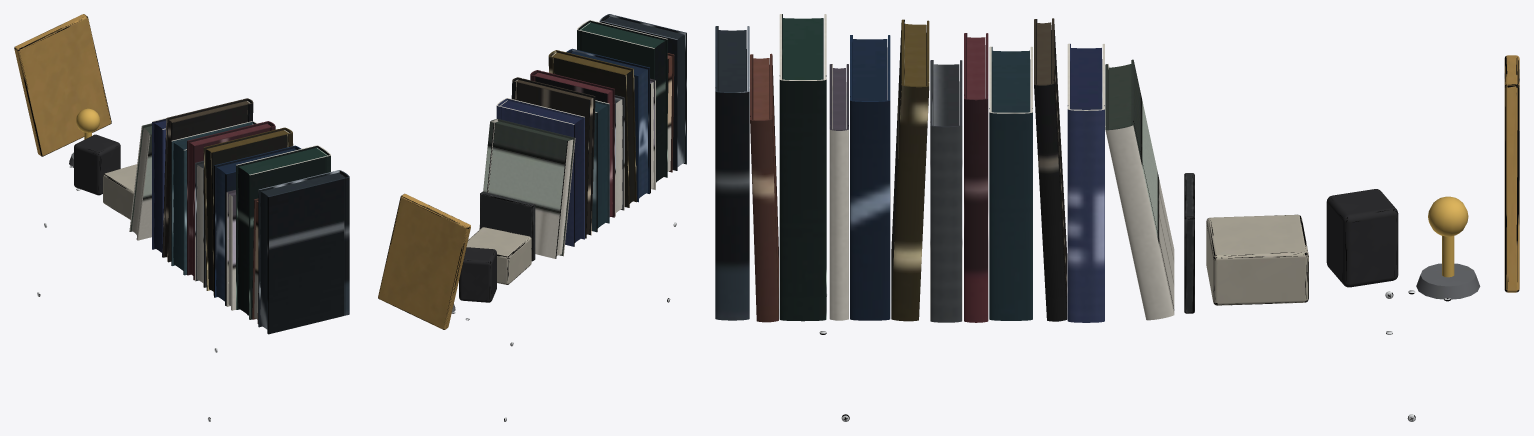
The model's file is bookrack.glb.
3 views of the same model, side by side, from view 1: azimuth 30°, elevation 25°; view 2: azimuth 150°, elevation 25°; view 3: azimuth 270°, elevation 25° (orthographic). The views are drawn at different scales.
Parts seen in each view (by area): view 1: Mesh_165.001__mesh, Mesh_178.001__mesh, Mesh_167.001__mesh, Mesh_174.001__mesh, Mesh_170.001__mesh, Mesh_169.001__mesh, Mesh_173.001__mesh, Mesh_161.001__mesh, Mesh_172.001__mesh, Mesh_176.001__mesh, Mesh_175.001__mesh, Mesh_160.001__mesh (+4 smaller); view 2: Mesh_178.001__mesh, Mesh_176.001__mesh, Mesh_167.001__mesh, Mesh_175.001__mesh, Mesh_170.001__mesh, Mesh_174.001__mesh, Mesh_165.001__mesh, Mesh_169.001__mesh, Mesh_160.001__mesh, Mesh_173.001__mesh, Mesh_177.001__mesh, Mesh_161.001__mesh (+4 smaller); view 3: Mesh_167.001__mesh, Mesh_173.001__mesh, Mesh_169.001__mesh, Mesh_175.001__mesh, Mesh_176.001__mesh, Mesh_165.001__mesh, Mesh_170.001__mesh, Mesh_160.001__mesh, Mesh_171.001__mesh, Mesh_172.001__mesh, Mesh_174.001__mesh, Mesh_166.001__mesh (+6 smaller).
Part boxes in pixels (<box>): Mesh_165.001__mesh: <box>258,170,349,334</box>; Mesh_178.001__mesh: <box>14,14,111,156</box>; Mesh_167.001__mesh: <box>236,145,330,319</box>; Mesh_174.001__mesh: <box>162,98,253,262</box>; Mesh_170.001__mesh: <box>203,127,293,295</box>; Mesh_169.001__mesh: <box>214,145,301,305</box>; Mesh_173.001__mesh: <box>171,121,257,275</box>; Mesh_161.001__mesh: <box>74,134,120,195</box>; Mesh_172.001__mesh: <box>187,121,275,280</box>; Mesh_176.001__mesh: <box>129,123,151,240</box>; Mesh_175.001__mesh: <box>152,118,166,256</box>; Mesh_160.001__mesh: <box>103,164,137,219</box>; Mesh_178.001__mesh: <box>378,193,470,329</box>; Mesh_176.001__mesh: <box>479,119,575,258</box>; Mesh_167.001__mesh: <box>577,20,667,182</box>; Mesh_175.001__mesh: <box>496,98,584,246</box>; Mesh_170.001__mesh: <box>548,50,636,207</box>; Mesh_174.001__mesh: <box>511,77,595,238</box>; Mesh_165.001__mesh: <box>599,14,686,170</box>; Mesh_169.001__mesh: <box>566,48,649,202</box>; Mesh_160.001__mesh: <box>466,227,531,284</box>; Mesh_173.001__mesh: <box>592,100,609,232</box>; Mesh_177.001__mesh: <box>480,191,535,261</box>; Mesh_161.001__mesh: <box>459,247,496,302</box>; Mesh_167.001__mesh: <box>779,14,826,321</box>; Mesh_173.001__mesh: <box>989,46,1032,320</box>; Mesh_169.001__mesh: <box>850,35,890,320</box>; Mesh_175.001__mesh: <box>1067,43,1104,322</box>; Mesh_176.001__mesh: <box>1105,59,1174,320</box>; Mesh_165.001__mesh: <box>715,26,749,320</box>; Mesh_170.001__mesh: <box>891,19,929,321</box>; Mesh_160.001__mesh: <box>1206,214,1308,305</box>; Mesh_171.001__mesh: <box>930,60,962,322</box>; Mesh_172.001__mesh: <box>964,33,988,322</box>; Mesh_174.001__mesh: <box>1034,18,1067,321</box>; Mesh_166.001__mesh: <box>750,53,778,322</box>.
Size of the model in its own units: 0.1895 by 0.4385 by 0.7528.
Materials: 1 (1 with a texture image).
